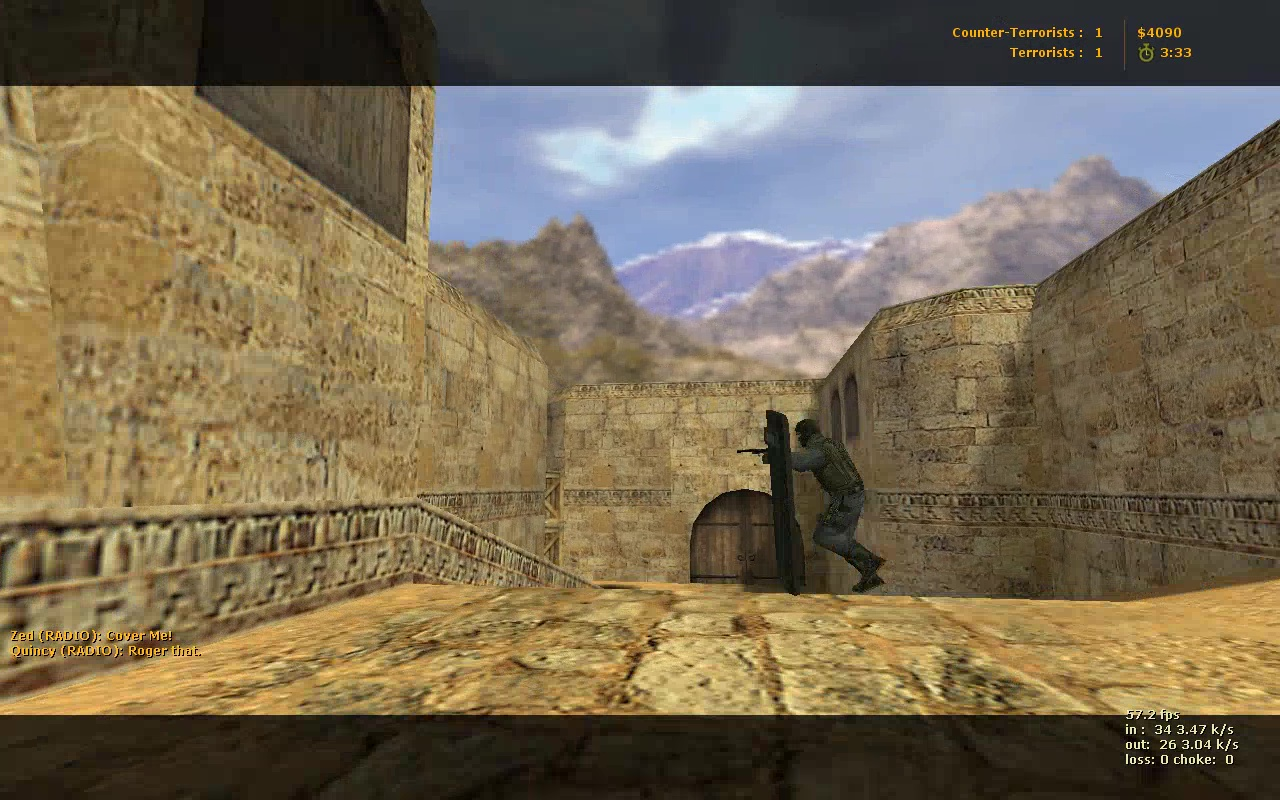ct: (763, 408, 890, 592)
